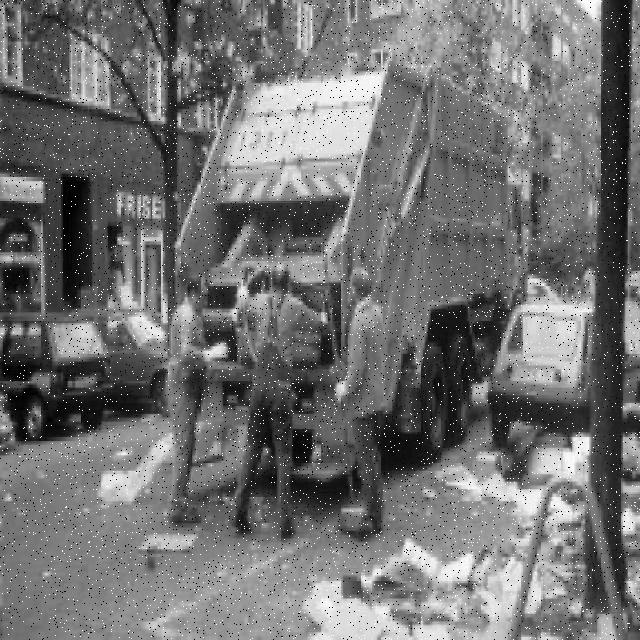Garbage Truck: (172, 54, 532, 483)
